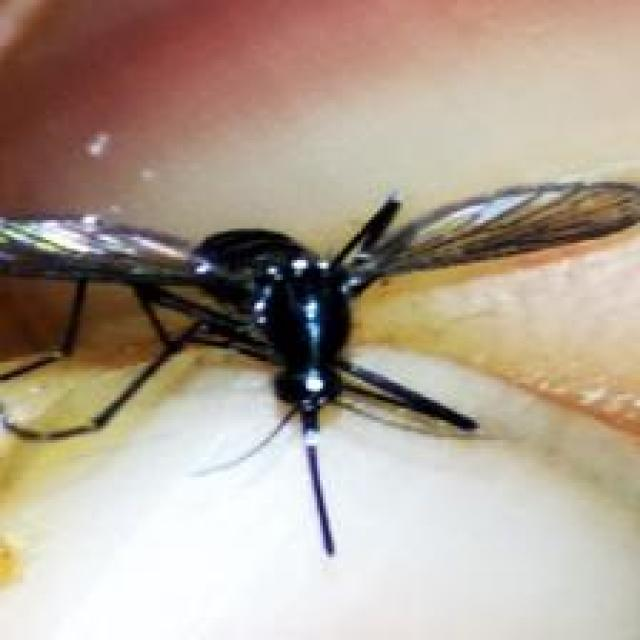Aedes albopictus: (0, 174, 640, 560)
